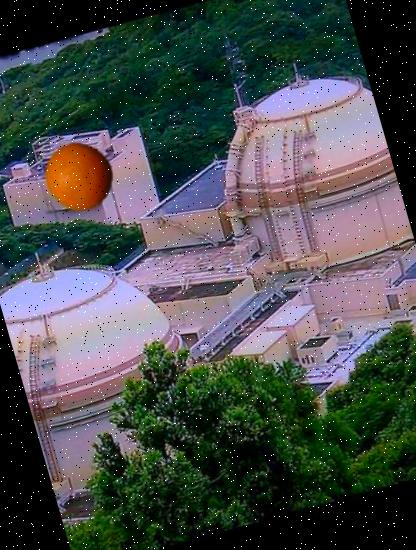Orange: (36, 133, 124, 220)
